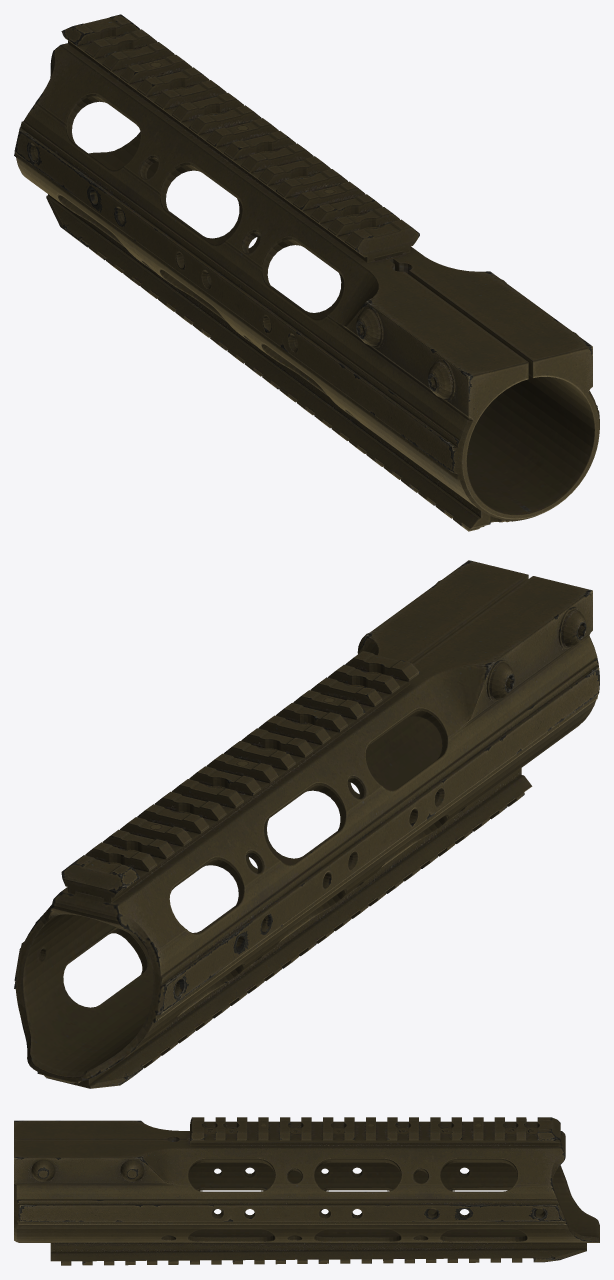
The picture shows the model from 3 angles, top to bottom: view 1: azimuth 30°, elevation 25°; view 2: azimuth 150°, elevation 25°; view 3: azimuth 270°, elevation 25°; orthographic projection. The views are drawn at different scales.
Visible parts, largest first — view 1: TW_67405ef125beb509e8070276_PZ_Import; view 2: TW_67405ef125beb509e8070276_PZ_Import; view 3: TW_67405ef125beb509e8070276_PZ_Import.
Part boxes in pixels (bbox=[...]): TW_67405ef125beb509e8070276_PZ_Import: bbox=[14, 14, 599, 531]; TW_67405ef125beb509e8070276_PZ_Import: bbox=[14, 560, 599, 1088]; TW_67405ef125beb509e8070276_PZ_Import: bbox=[14, 1117, 599, 1265].
Bounding box in the file's own units: 0.0285 × 0.1578 × 0.0397.
1 material, 1 textured.
